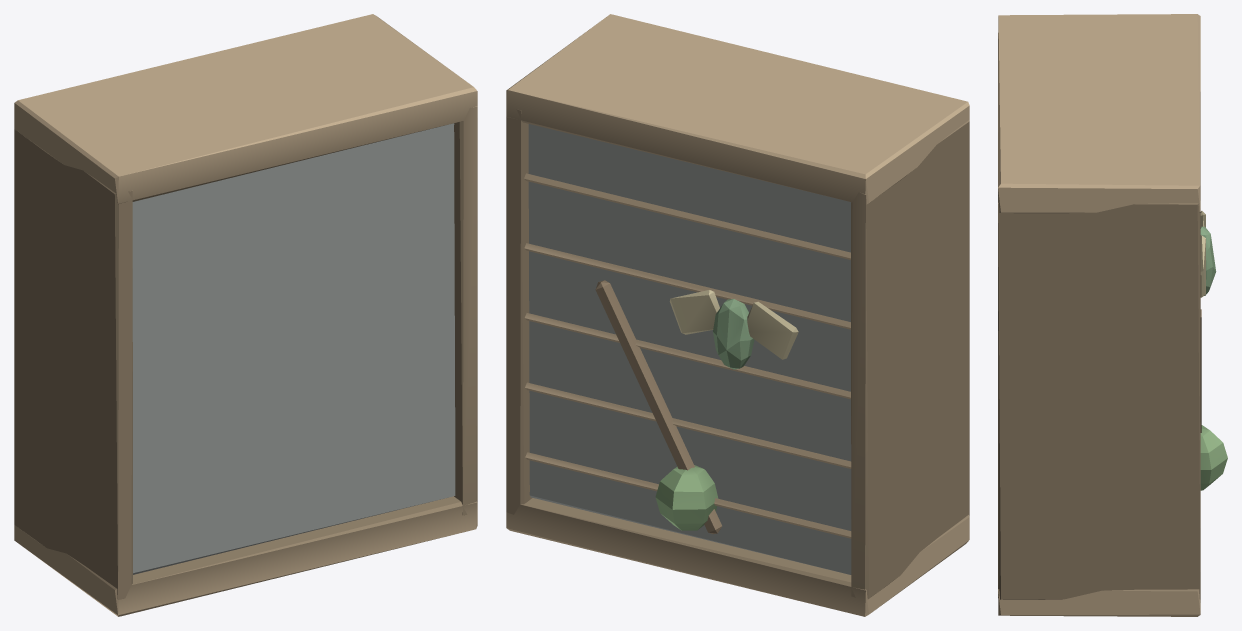
File: furn_insect_case__oak_low.glb
3 renders of one model, left to right at view 1: azimuth 30°, elevation 25°; view 2: azimuth 150°, elevation 25°; view 3: azimuth 270°, elevation 25°, orthographic. The views are drawn at different scales.
Size of the model in its own units: 0.6 by 0.7 by 0.3367.
